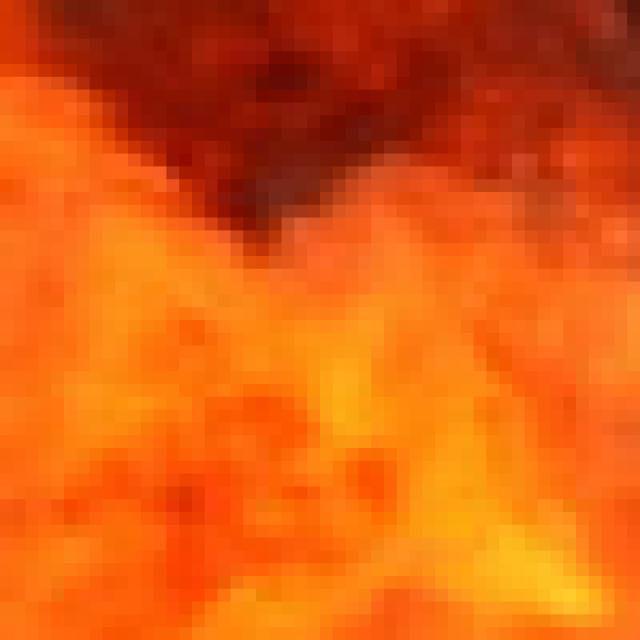fire: (10, 27, 640, 630)
